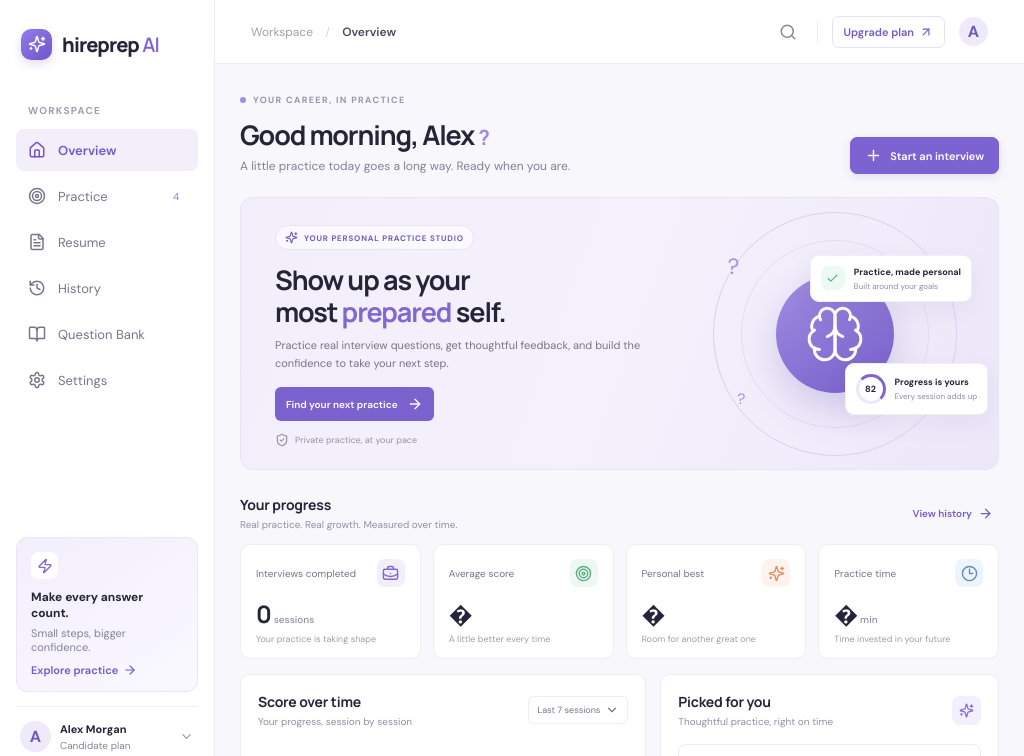
it: AI request behavior in the application UI › does not retry a failed start automatically
The width and height of the screenshot is (1024, 756).
Click the button "Practice 4": x=107, y=196 [16,175,198,217]
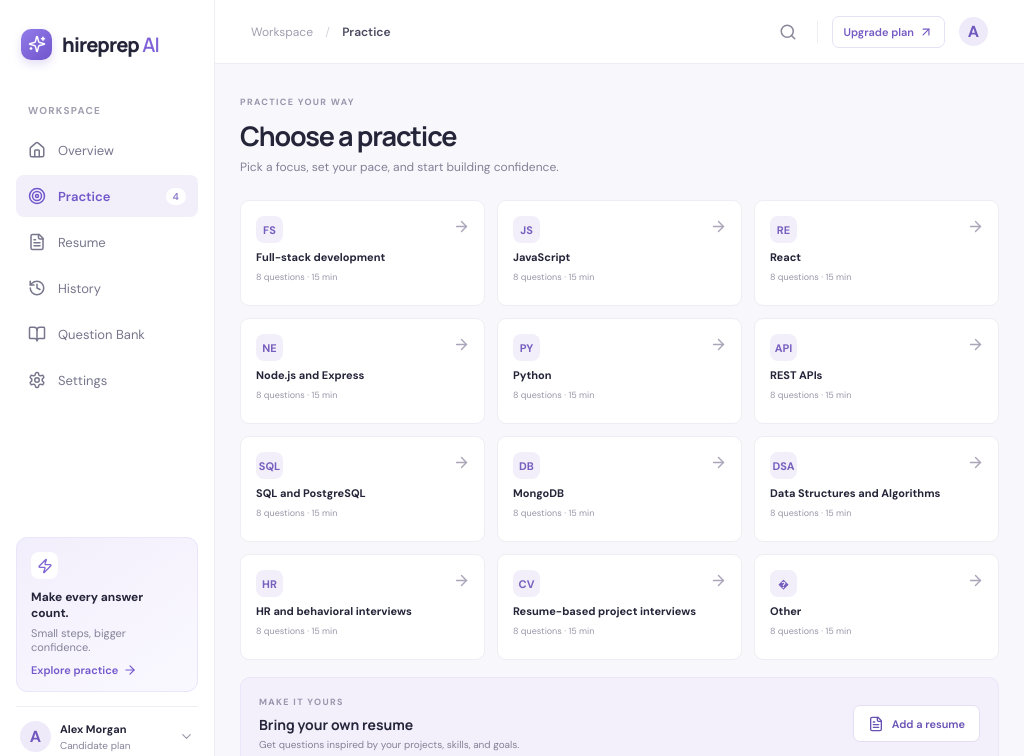
Click the button "RE React 8 questions · 15 min": x=876, y=253 [754,200,999,306]
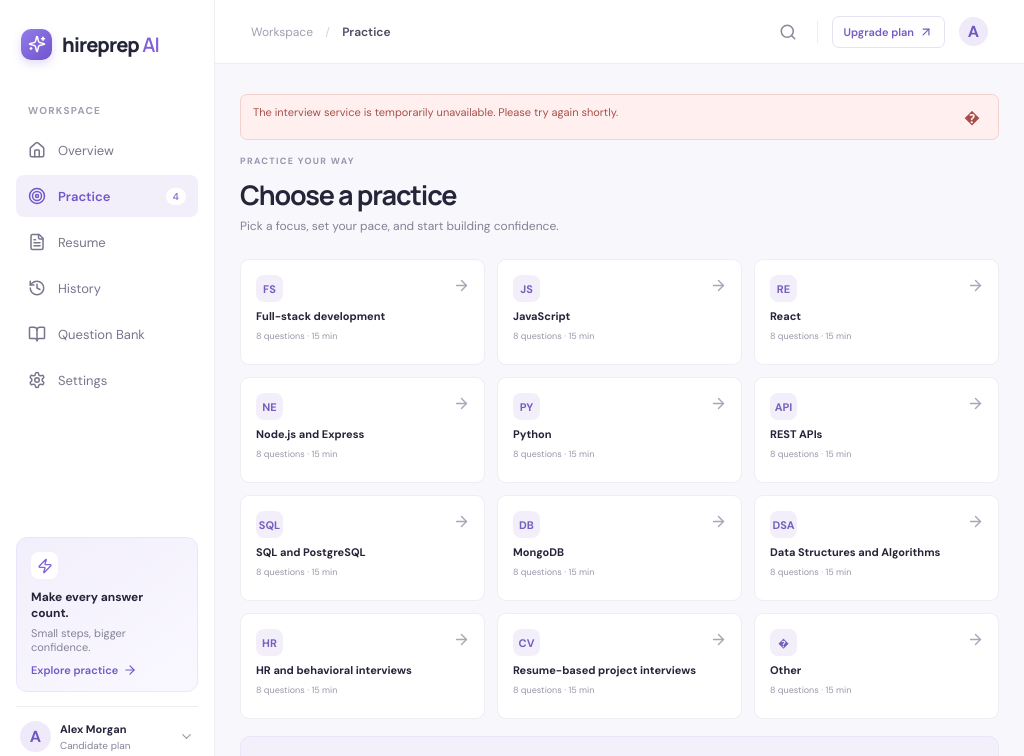
Now the text "The interview service is temporarily unavailable. Please try again shortly." is shown, box [253,105,618,119]
